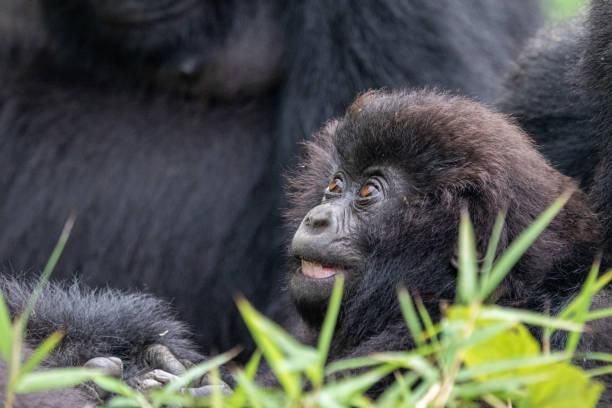goriile_montagne: (256, 90, 596, 365)
